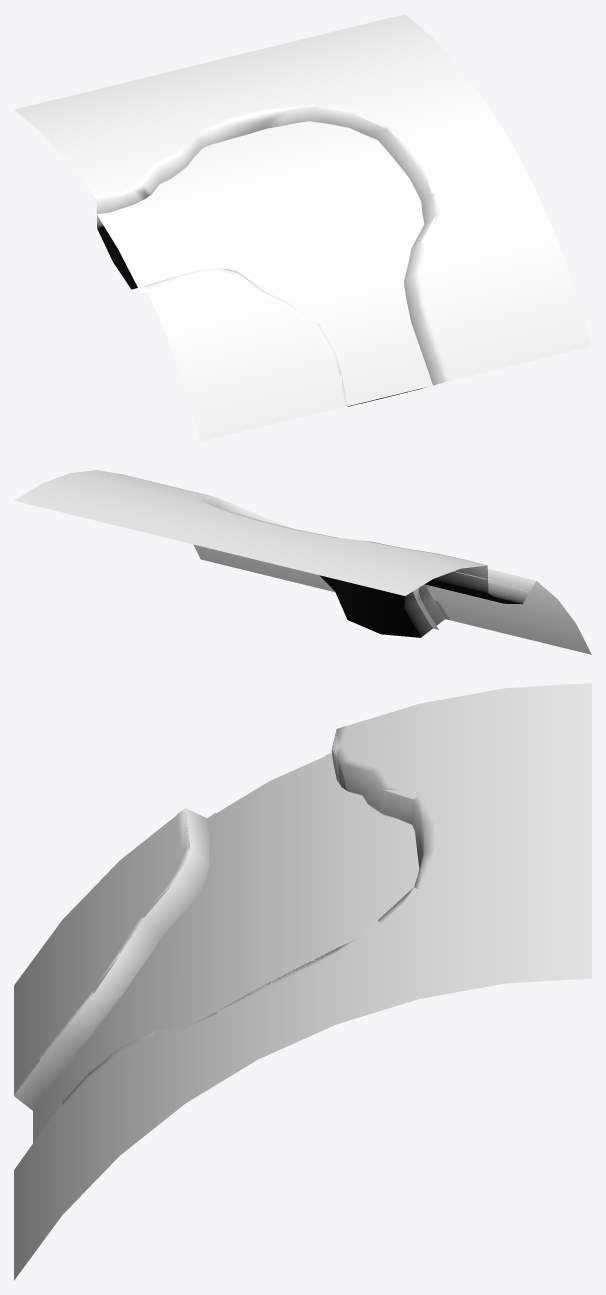
File: grd_Rnw_P_1.dae
3 renders of one model, top to bottom at view 1: azimuth 30°, elevation 25°; view 2: azimuth 150°, elevation 25°; view 3: azimuth 270°, elevation 25°, orthographic. The views are drawn at different scales.
Visible parts, largest first — view 1: grd_Rnw_P_1; view 2: grd_Rnw_P_1; view 3: grd_Rnw_P_1.
Boxes of the visible parts, bbox=[...] form: grd_Rnw_P_1: bbox=[14, 14, 591, 441]; grd_Rnw_P_1: bbox=[14, 470, 591, 654]; grd_Rnw_P_1: bbox=[14, 683, 591, 1280].
Size of the model in its own units: 512 by 264 by 423.
4 materials, 1 textured.
